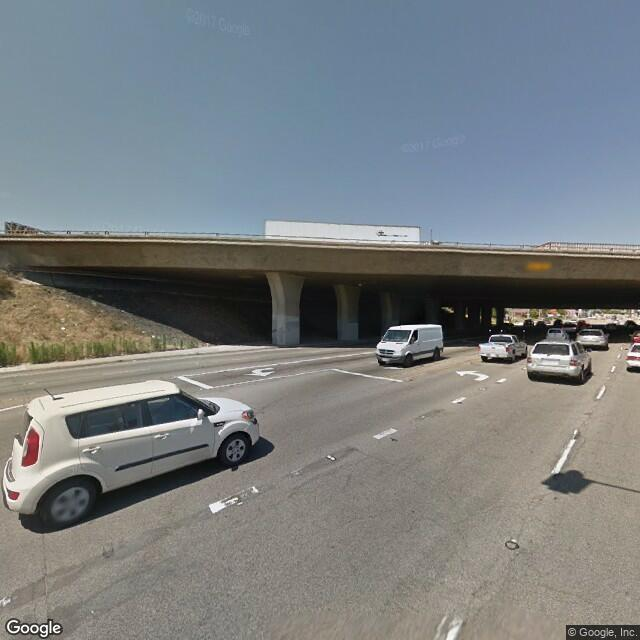litter: (59, 325, 66, 331), (142, 329, 146, 333)
